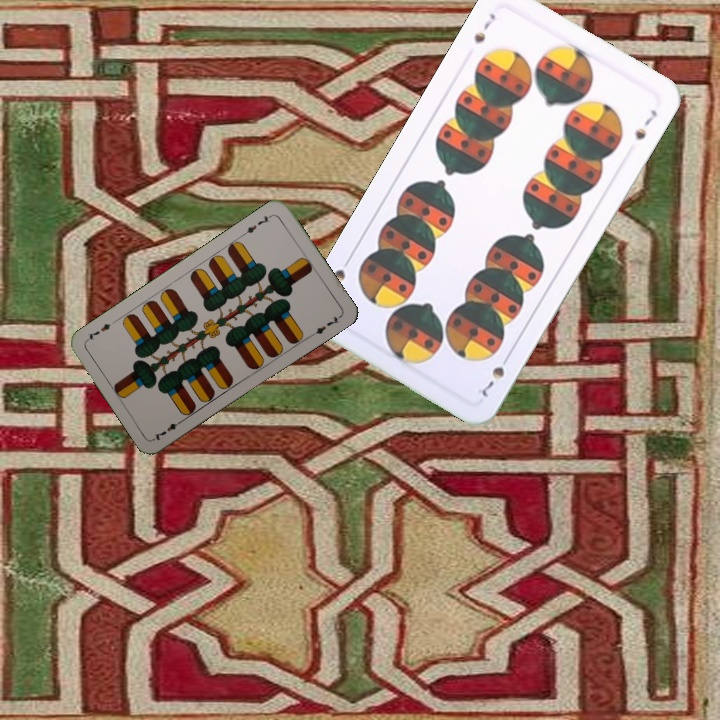E7: (239, 210, 275, 238), (150, 415, 186, 443)
S7: (477, 349, 514, 400), (470, 9, 498, 46)
